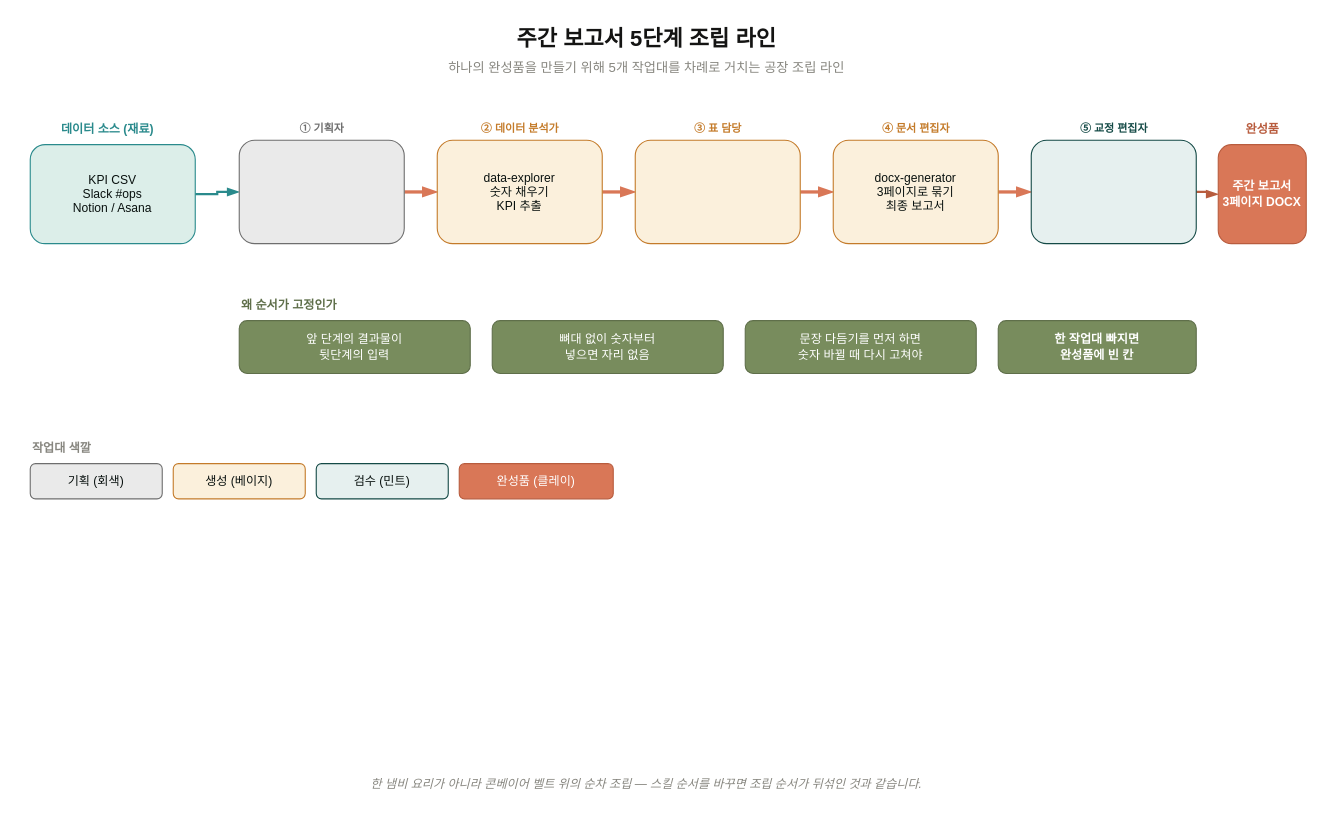
Some shapes in this 1326 by 818 pixel diagram are drawn without their labels. The centre of each missing label's shape, as x and y in pixels:
ai-slop-reviewer 문장 다듬기 임원체 / 팀체: [1113,191]
status-reporter 보고서 뼈대 잡기 OKR 진행률: [321,191]
xlsx-creator 차트로 정리 대시보드 시트: [717,191]
